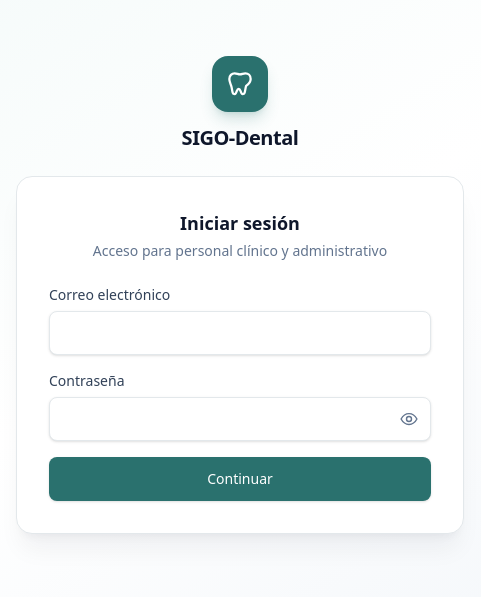
Scenario: LoginPage › explica el bloqueo por demasiados intentos (429)
Type "a@b.co" into the field labelled "Correo electrónico" at x=240, y=333, box [49,311,431,355]
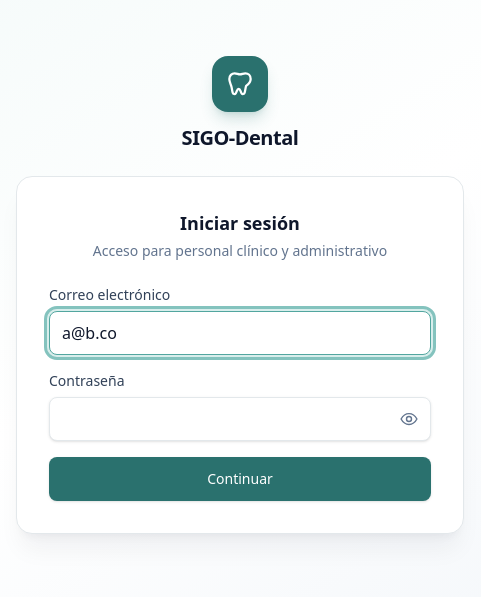
Type "x" into the password field labelled "Contraseña" at x=240, y=419, box [49,397,431,441]
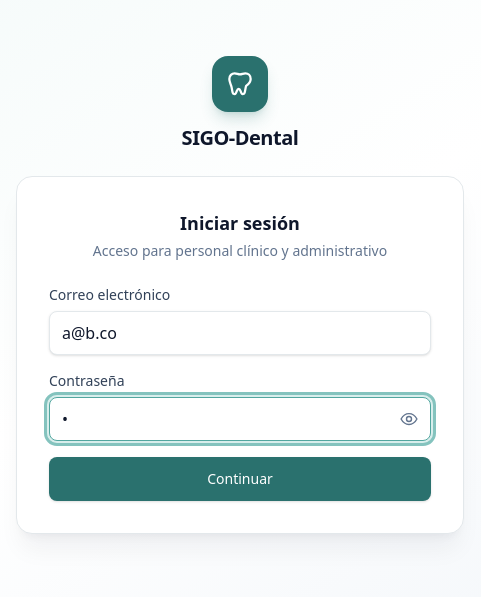
Click the button "Continuar" at x=240, y=479, box [49,457,431,501]
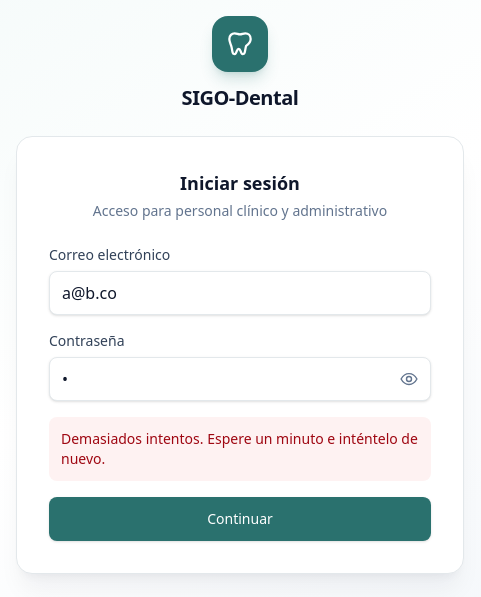
Expected: the message shows "Demasiados intentos", [61,429,418,468]
